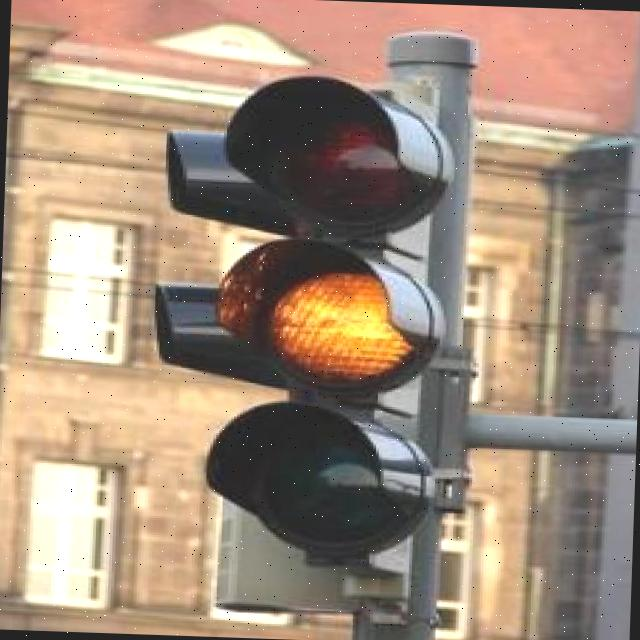yellow_light: (211, 97, 445, 555)
